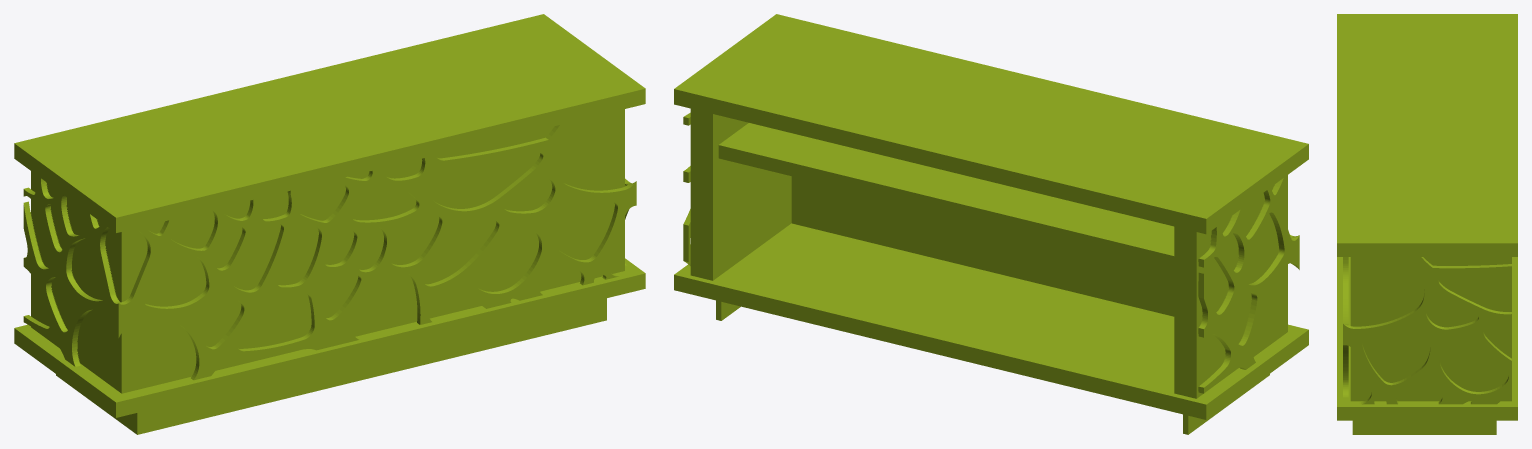
Rendered from Table_1_obj.obj.
3 views of the same model, side by side, from view 1: azimuth 30°, elevation 25°; view 2: azimuth 150°, elevation 25°; view 3: azimuth 270°, elevation 25° (orthographic). The views are drawn at different scales.
Visible parts, largest first — view 1: Table_1_7, Table_1_4, Table_1_2, Table_1_8, Table_1_1; view 2: Table_1_8, Table_1_7, Table_1_6, Table_1_4, Table_1_2, Table_1_1; view 3: Table_1_7, Table_1_4, Table_1_2, Table_1_8, Table_1_1.
Boxes of the visible parts, x1,y1,x2,y2 form: Table_1_7: [14, 14, 645, 232]; Table_1_4: [31, 109, 624, 393]; Table_1_2: [23, 122, 636, 380]; Table_1_8: [14, 258, 645, 417]; Table_1_1: [56, 298, 606, 434]; Table_1_8: [674, 123, 1308, 419]; Table_1_7: [674, 14, 1308, 234]; Table_1_6: [693, 109, 1193, 397]; Table_1_4: [690, 108, 1287, 398]; Table_1_2: [683, 112, 1299, 393]; Table_1_1: [716, 300, 1269, 434]; Table_1_7: [1337, 14, 1517, 256]; Table_1_4: [1350, 257, 1511, 401]; Table_1_2: [1343, 257, 1511, 404]; Table_1_8: [1337, 257, 1517, 420]; Table_1_1: [1352, 420, 1496, 434].
Size of what is drawn, in the model's own units: 70.87 by 29.53 by 23.62.
